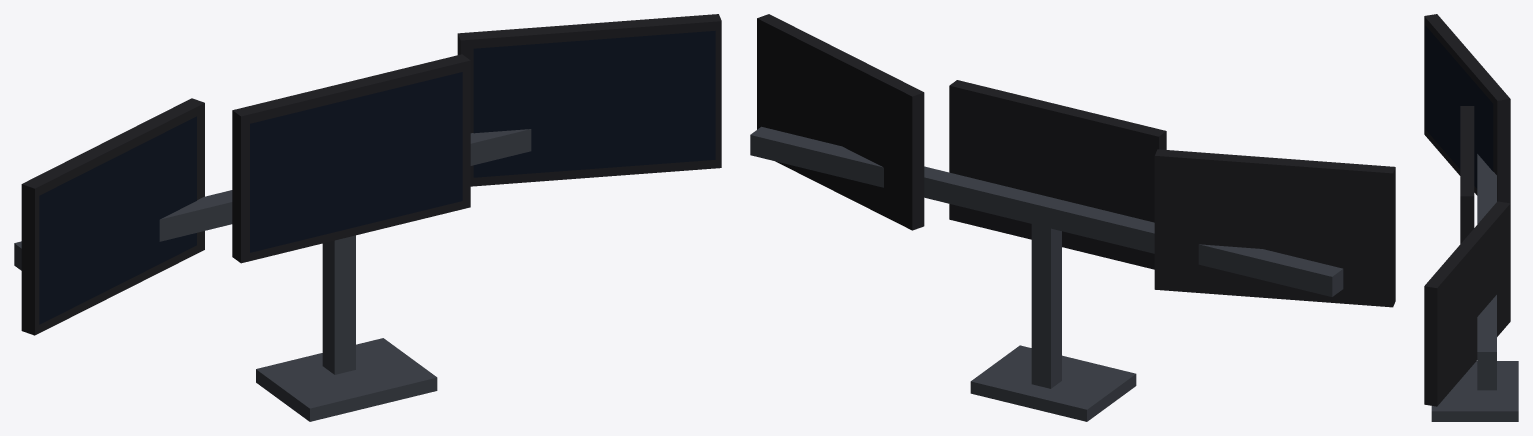
The model's file is monitor_triple.fbx.
The picture shows the model from 3 angles, left to right: view 1: azimuth 30°, elevation 25°; view 2: azimuth 150°, elevation 25°; view 3: azimuth 270°, elevation 25°; orthographic projection. The views are drawn at different scales.
Parts seen in each view (by area): view 1: monitor_triple; view 2: monitor_triple; view 3: monitor_triple.
Boxes of the visible parts, x1,y1,x2,y2 form: monitor_triple: (14, 14, 721, 421); monitor_triple: (750, 14, 1395, 421); monitor_triple: (1424, 14, 1518, 421).
Bounding box in the file's own units: 1.64 × 0.685 × 0.239.
